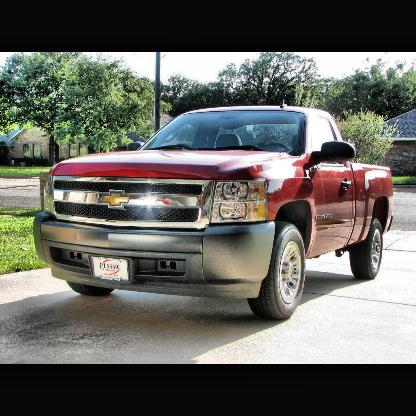Chevrolet Silverado 1500 Regular Cab 2012: (34, 107, 396, 323)
